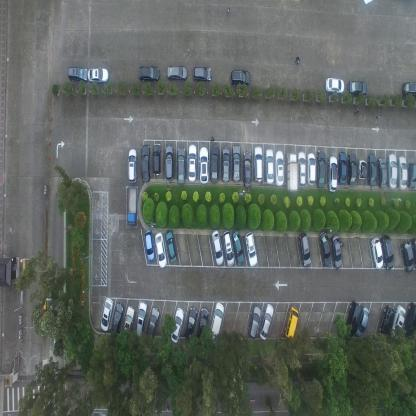car: (209, 302, 225, 345), (390, 306, 408, 342), (346, 302, 362, 340), (259, 304, 275, 341), (380, 306, 396, 342), (145, 307, 160, 344), (210, 230, 224, 268), (284, 306, 299, 341), (170, 308, 184, 345), (247, 306, 262, 340), (134, 300, 146, 342), (99, 298, 113, 334), (402, 301, 416, 337), (110, 302, 123, 340), (154, 232, 167, 270), (380, 235, 394, 270), (196, 308, 209, 345), (121, 306, 134, 343), (286, 152, 298, 192), (356, 307, 370, 341), (298, 233, 312, 267), (400, 239, 414, 273), (184, 308, 197, 344), (222, 230, 234, 268), (319, 230, 331, 268), (232, 230, 244, 267), (245, 232, 257, 268), (164, 229, 176, 264), (253, 146, 264, 184), (163, 144, 174, 182), (370, 237, 383, 269), (137, 65, 160, 83), (317, 149, 327, 190), (209, 143, 219, 184), (198, 146, 208, 186), (175, 146, 185, 186), (242, 150, 252, 190), (140, 144, 150, 184), (127, 187, 137, 227), (376, 157, 388, 190), (166, 65, 188, 83), (87, 66, 109, 84), (127, 147, 138, 183), (144, 230, 156, 263), (275, 149, 285, 187), (220, 145, 230, 183), (297, 151, 307, 189), (328, 155, 338, 192), (388, 152, 398, 189), (230, 68, 250, 86), (192, 66, 212, 84), (188, 144, 197, 184), (332, 234, 342, 270), (67, 67, 88, 84), (348, 79, 366, 98), (325, 76, 344, 94), (231, 145, 240, 182), (306, 152, 316, 185), (152, 142, 162, 175), (398, 156, 407, 192), (348, 152, 357, 187), (266, 147, 274, 186), (368, 152, 376, 187), (402, 80, 416, 100), (338, 151, 346, 185), (408, 161, 416, 190), (358, 159, 367, 181), (412, 237, 416, 270)
